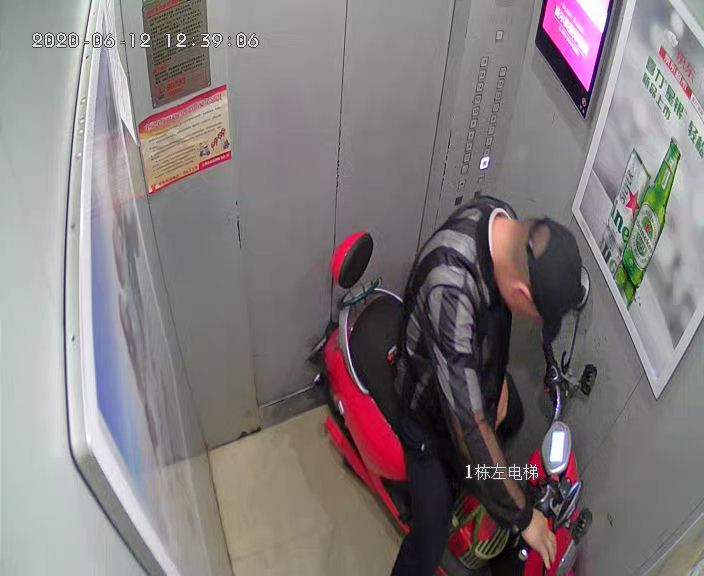Electric-bicycle: (318, 233, 597, 576)
